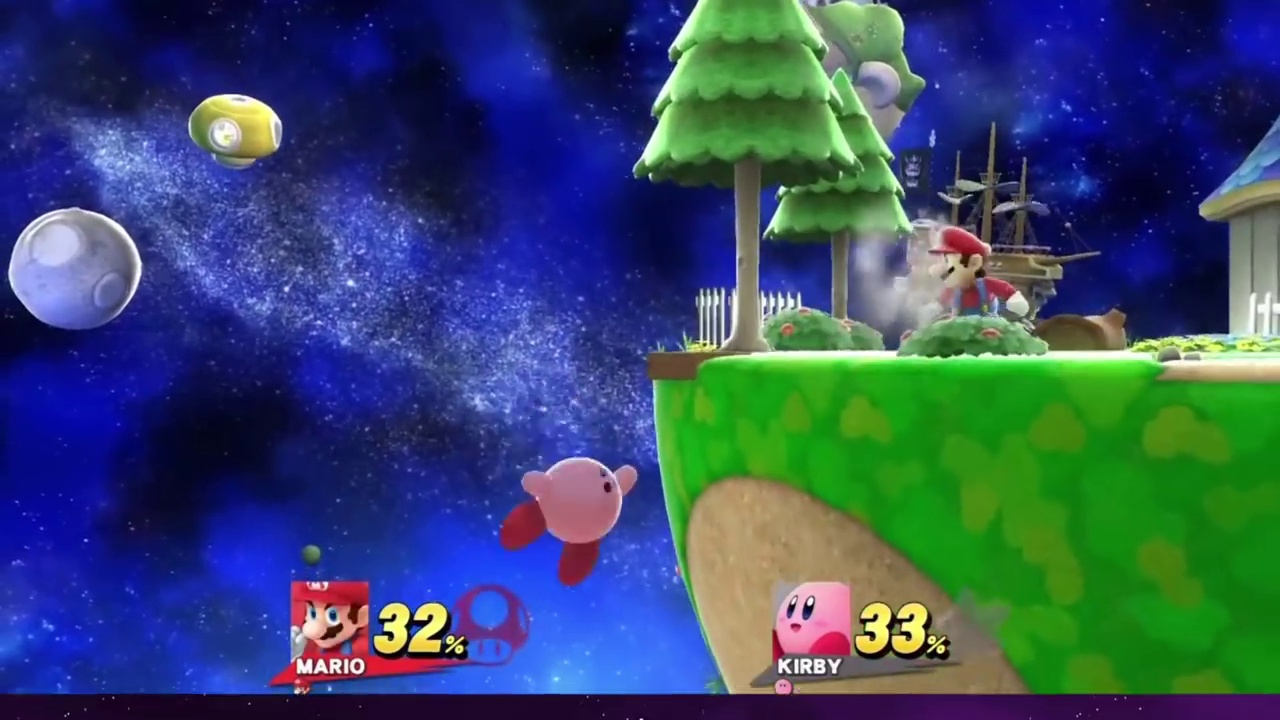Mario: (918, 224, 1031, 318)
